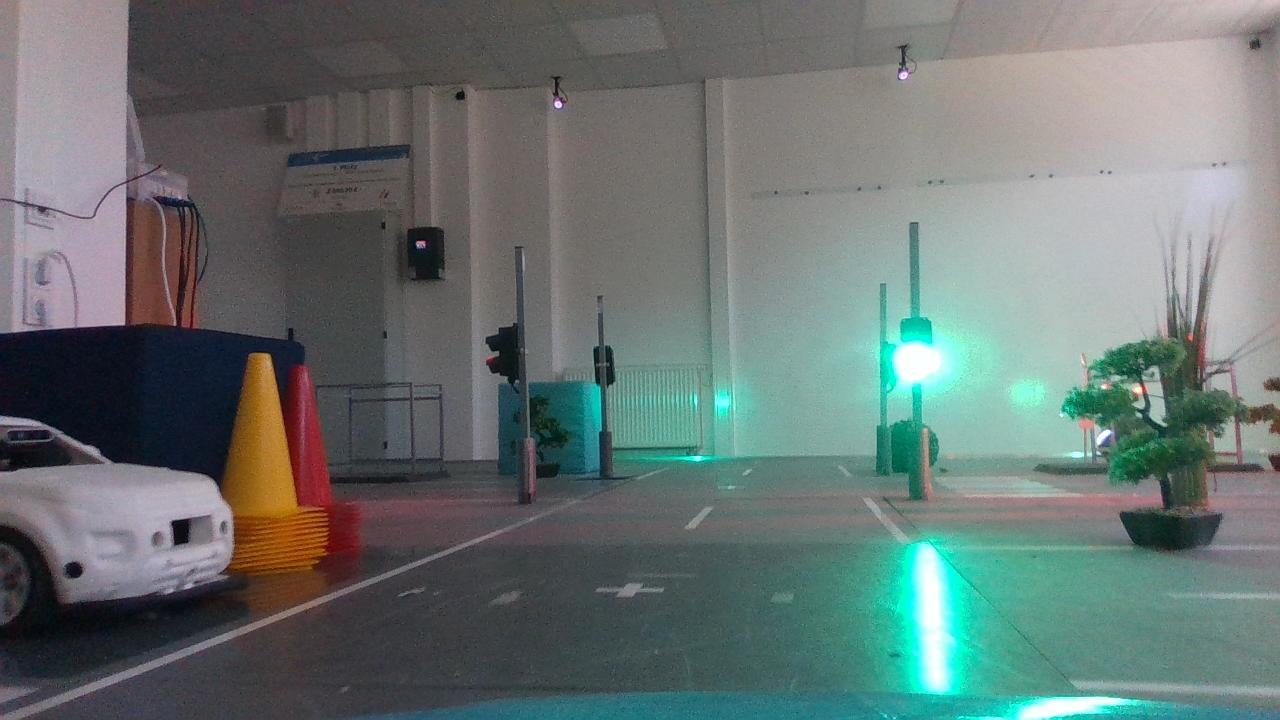traffic_light_green: (890, 313, 945, 396)
